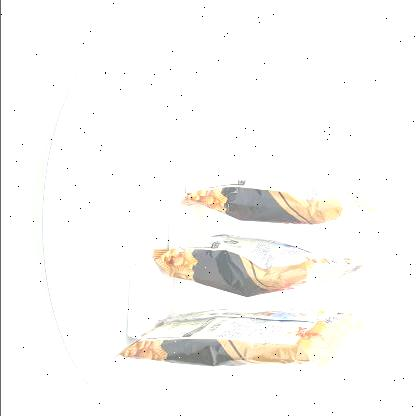Others: (105, 170, 395, 374)
